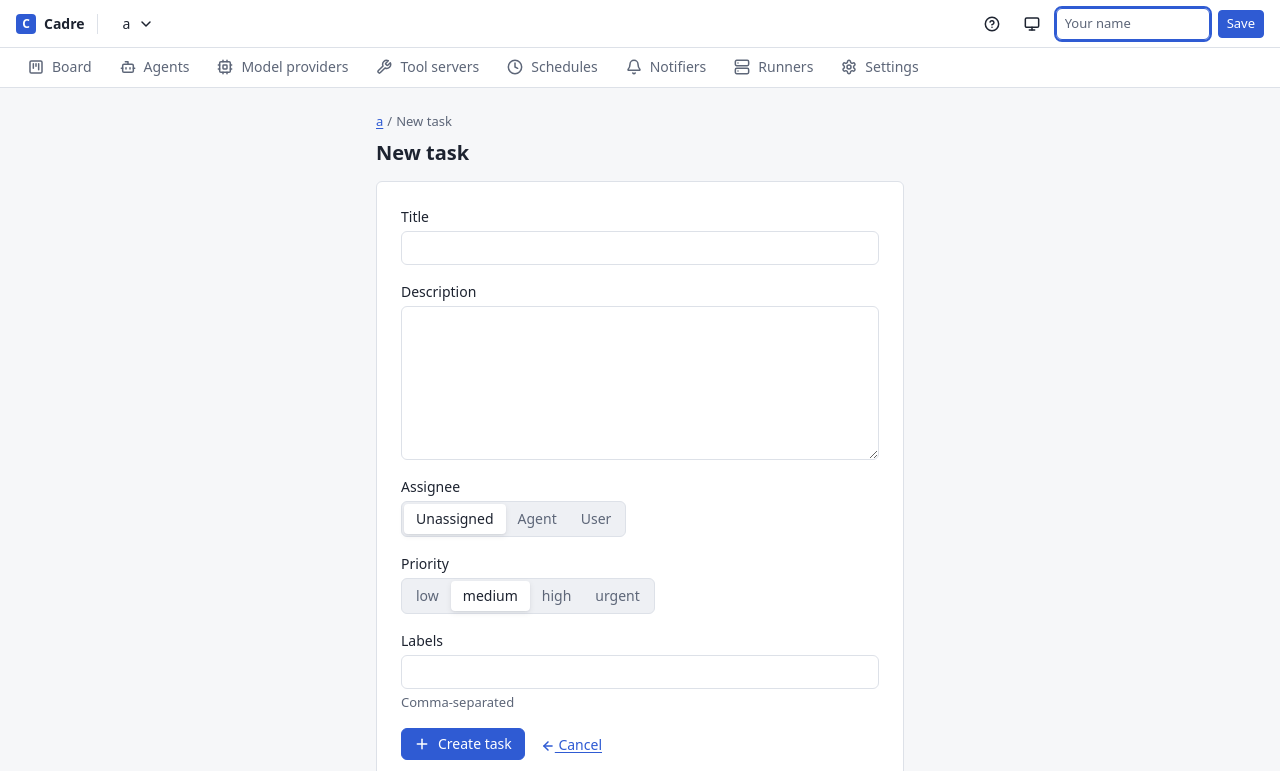
NewTask › shows why an agent is not ready, and creates the task
The image size is (1280, 771).
Click the button "Create task". click: {"x": 463, "y": 744}
box: [401,728,525,760]
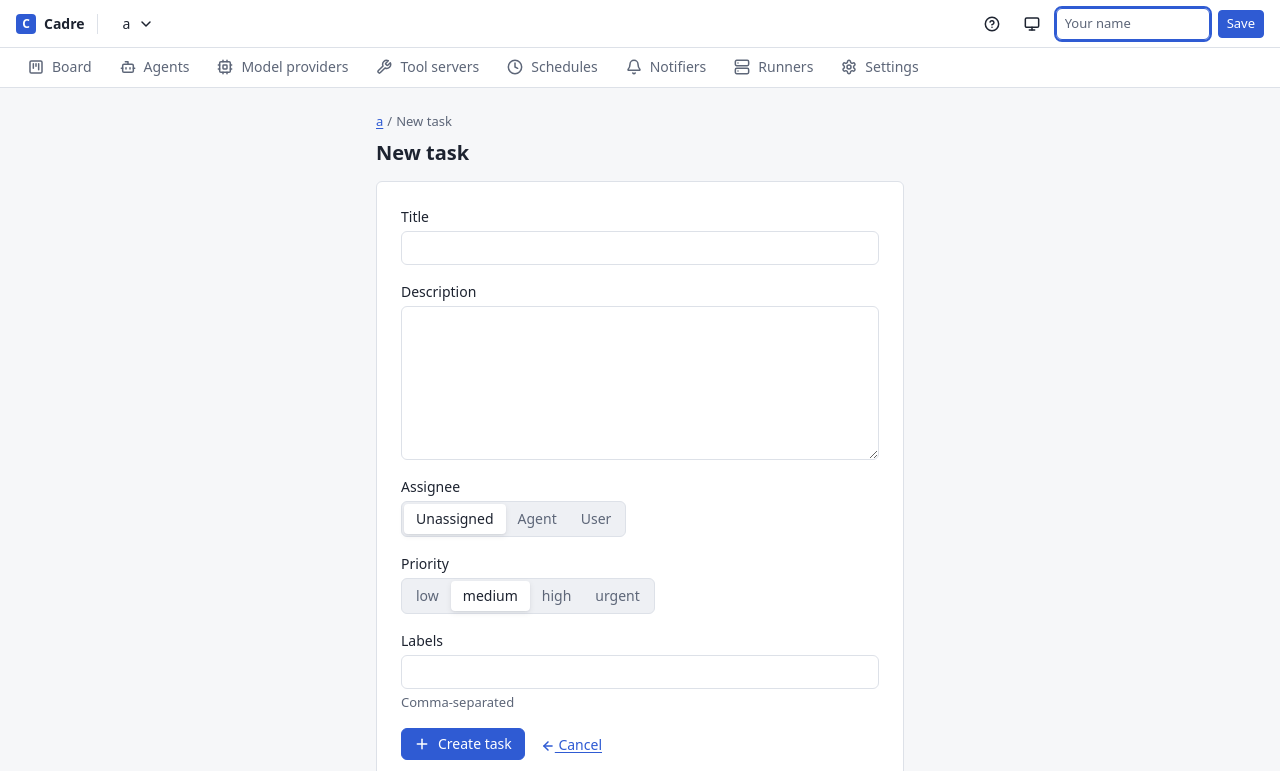
Type "Write it" into the field labelled "Title". click: {"x": 640, "y": 248}
box: [401,230,879,264]
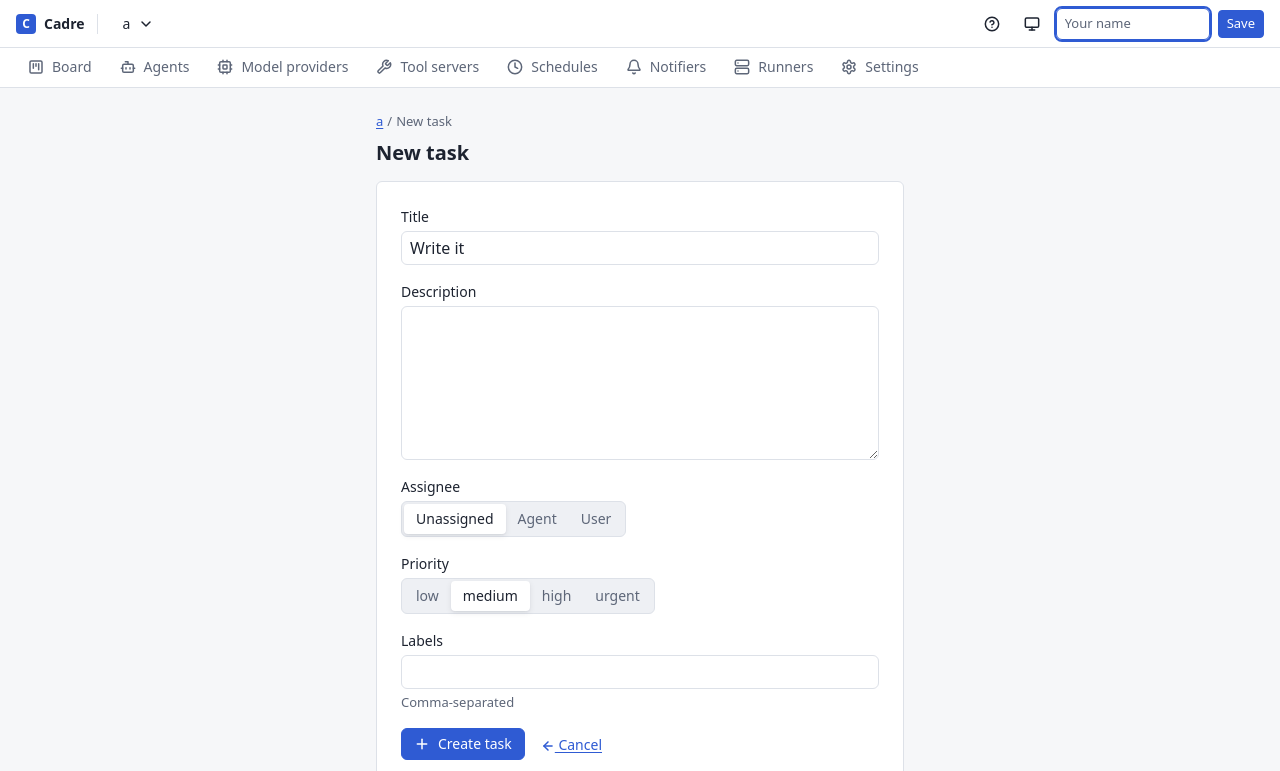
Click the radio button labelled "Agent". click: {"x": 537, "y": 518}
box: [518,509,557,528]
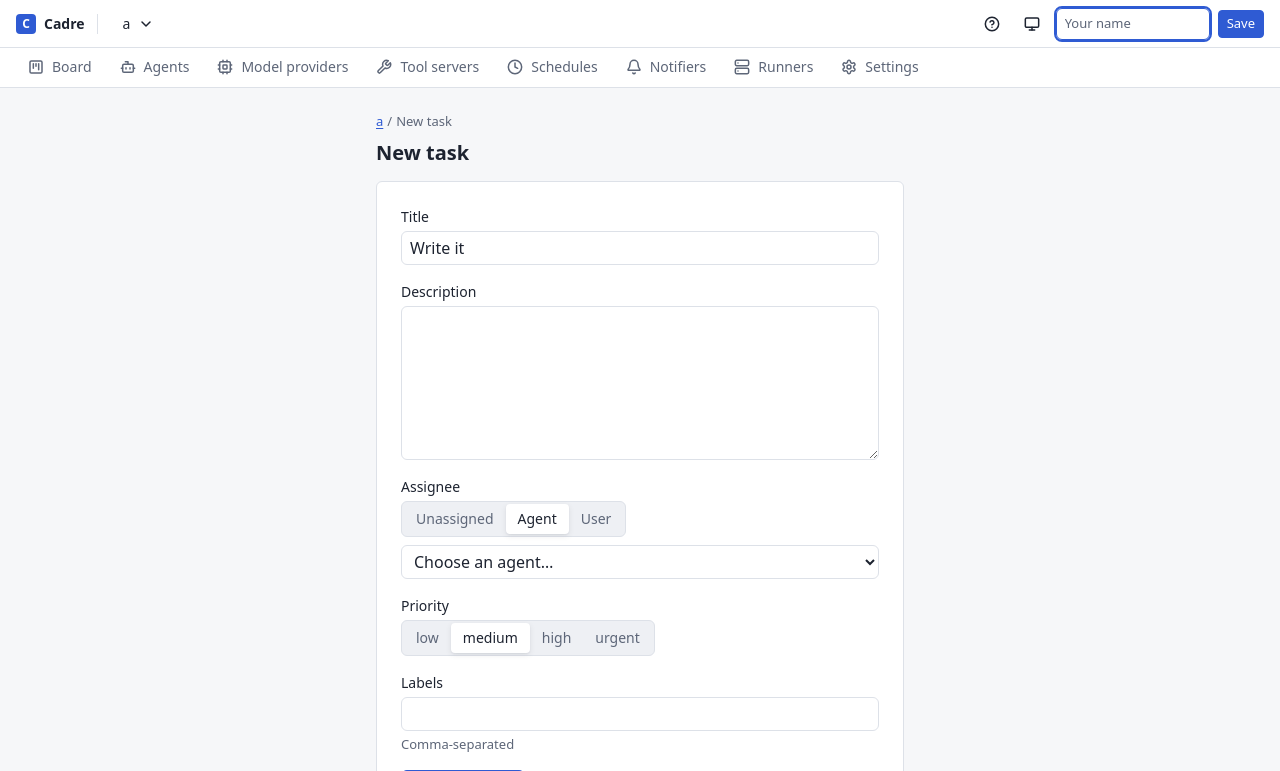
Select "coder (not ready: ModelProviderNotFound)" in the dropdown named "Agent to assign". click: {"x": 640, "y": 562}
box: [401,544,879,578]
(page scrolled)
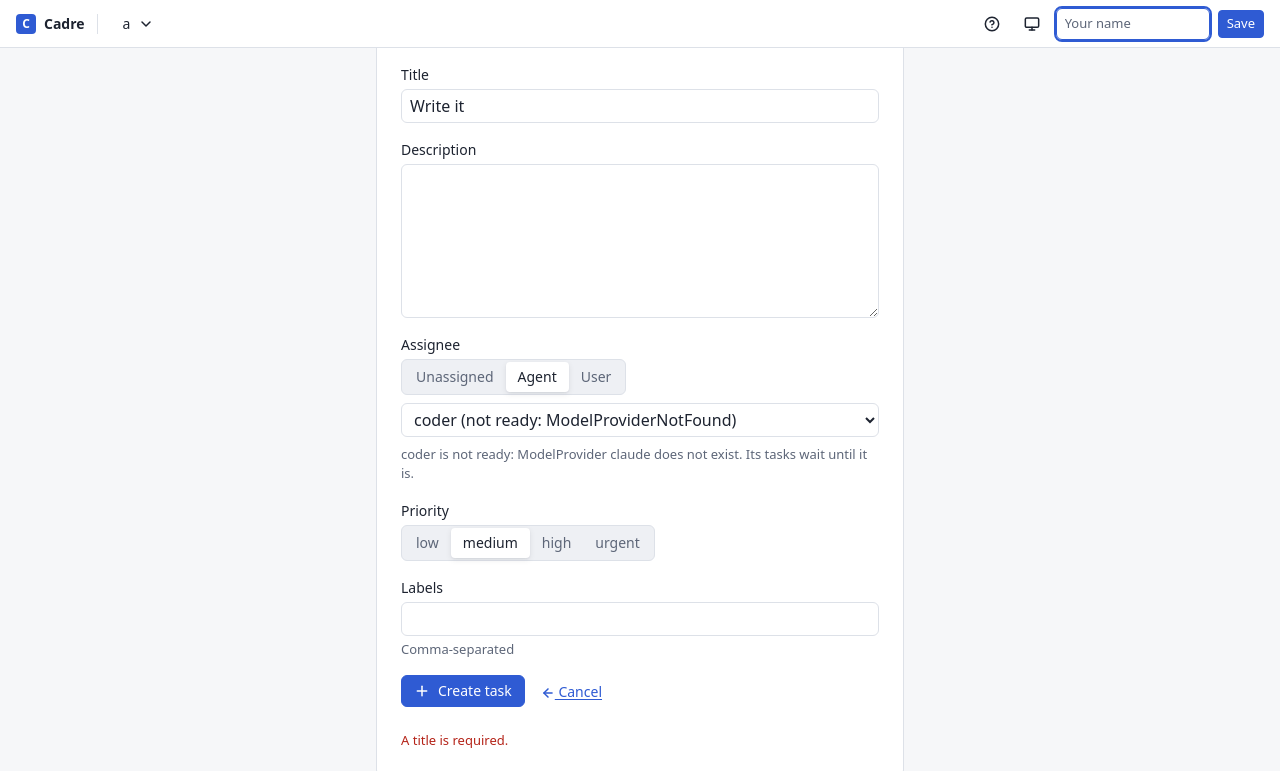
expect the text "ModelProvider claude does not exist" is shown: met, box [510,444,739,462]
Click the button "Create task". click: {"x": 463, "y": 691}
box: [401,675,525,707]
(page scrolled)
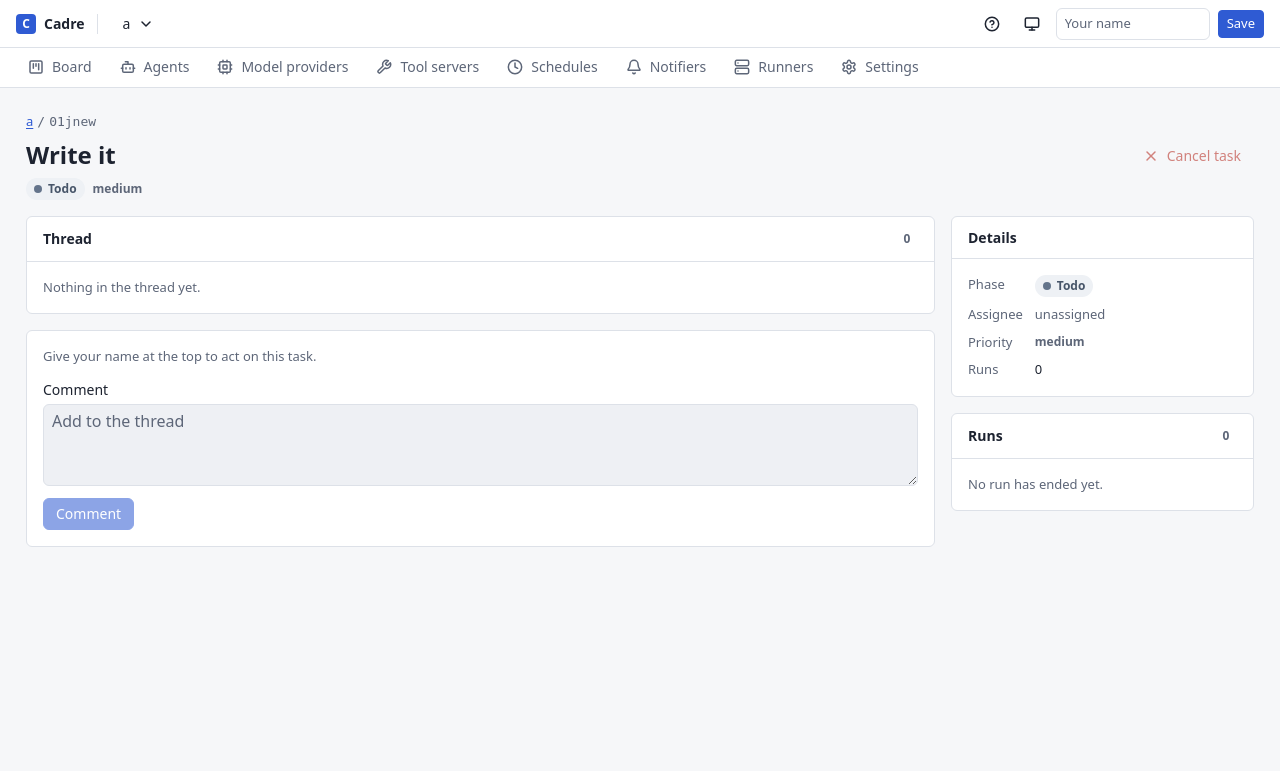
expect the text "Write it" is shown: met, box [26,138,116,170]
